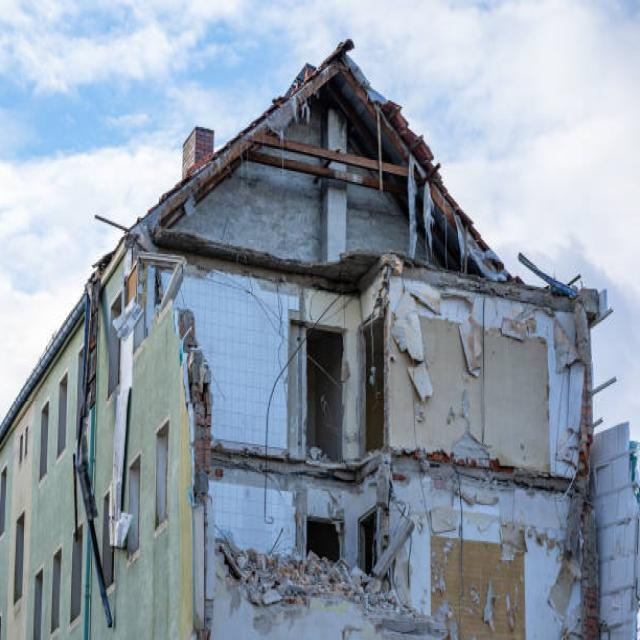Destroyed_building: (66, 0, 637, 640)
